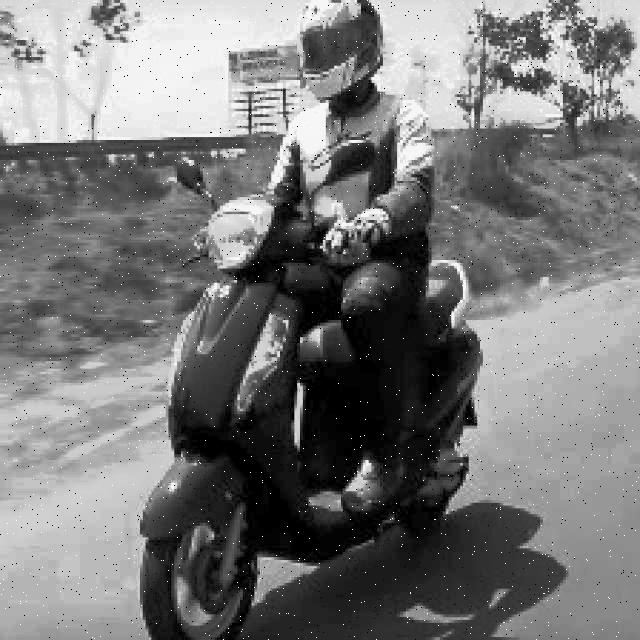Bike: (98, 187, 505, 639)
